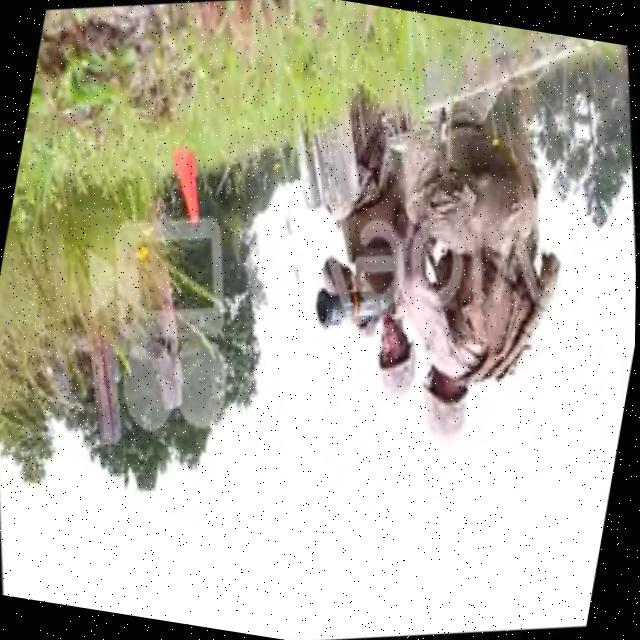rocket: (311, 271, 403, 341)
